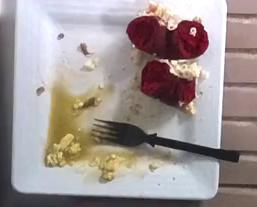donut: (126, 16, 208, 60), (142, 60, 195, 107)
